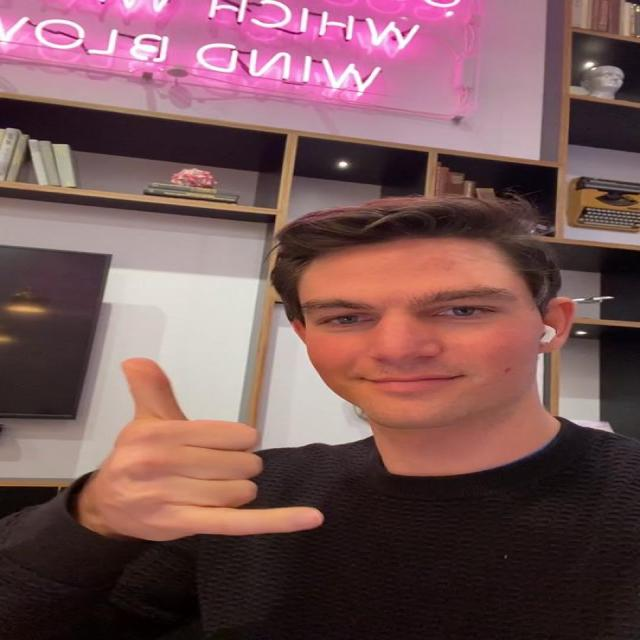face: (300, 252, 539, 429)
